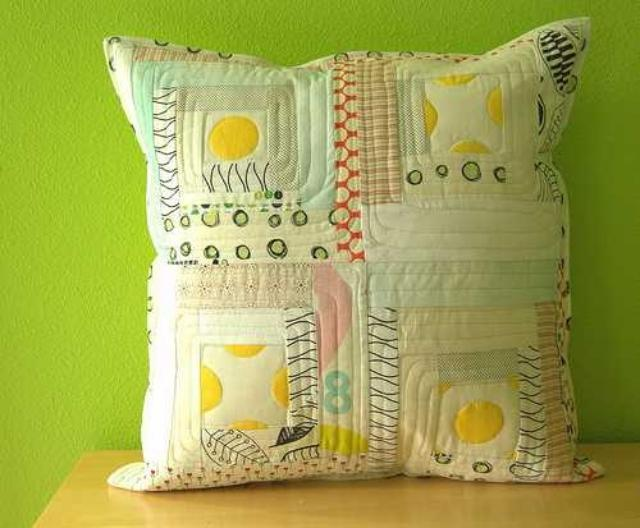pillow: (102, 17, 602, 493)
